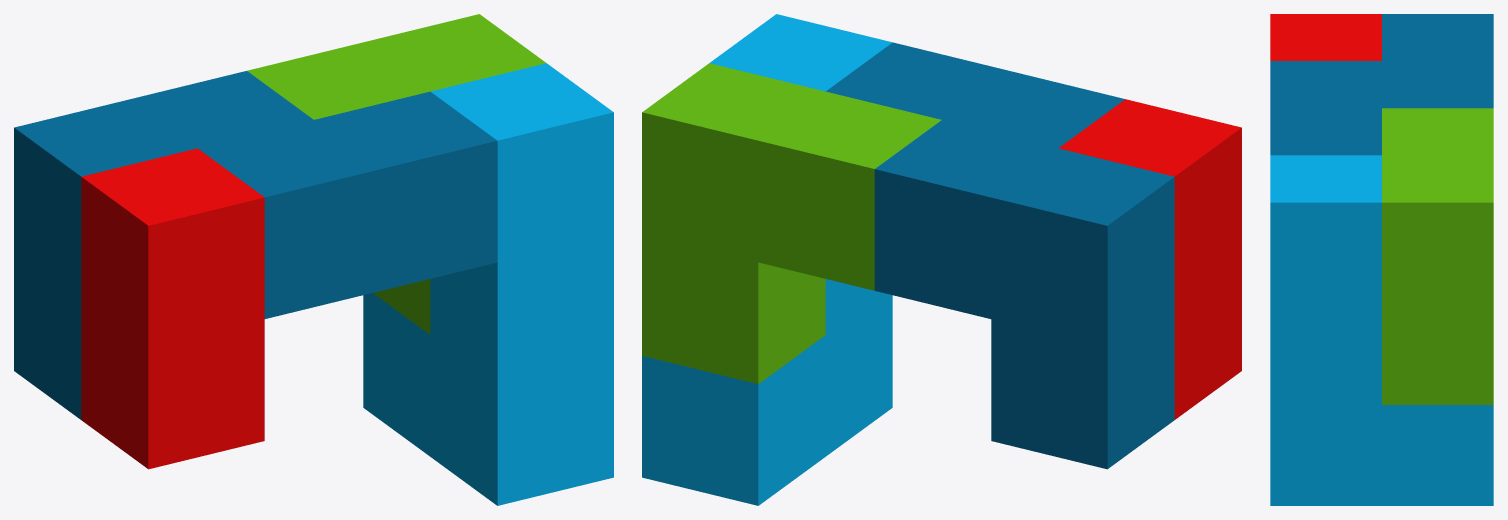
3 views of the same model, side by side, from view 1: azimuth 30°, elevation 25°; view 2: azimuth 150°, elevation 25°; view 3: azimuth 270°, elevation 25° (orthographic). The views are drawn at different scales.
Visible parts, largest first — view 1: mergedBlocks(Clone); view 2: mergedBlocks(Clone); view 3: mergedBlocks(Clone).
Boxes of the visible parts, left/top/right/bottom form: mergedBlocks(Clone): left=14, top=14, right=613, bottom=505; mergedBlocks(Clone): left=642, top=14, right=1241, bottom=505; mergedBlocks(Clone): left=1270, top=14, right=1493, bottom=505.
Bounding box in the file's own units: 4 × 3 × 2.
Materials: 4 (4 with a texture image).
